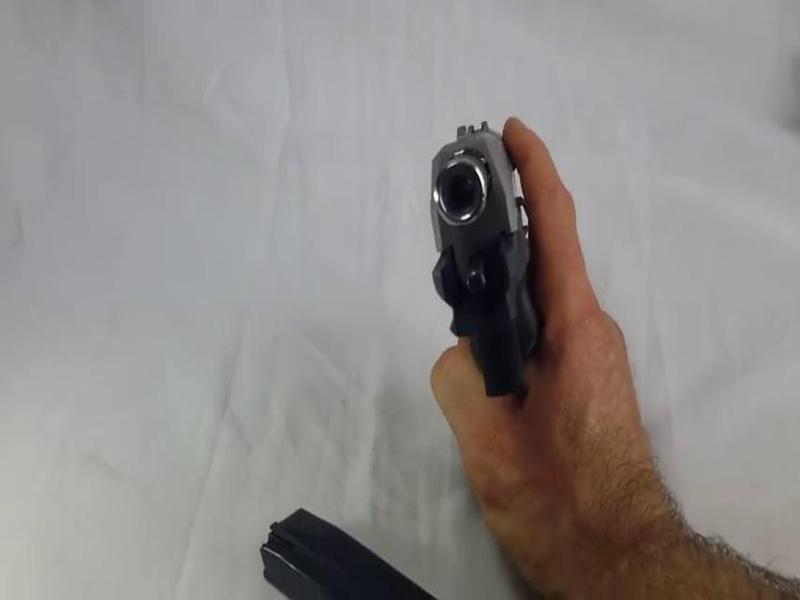Pistola: (415, 111, 582, 397)
